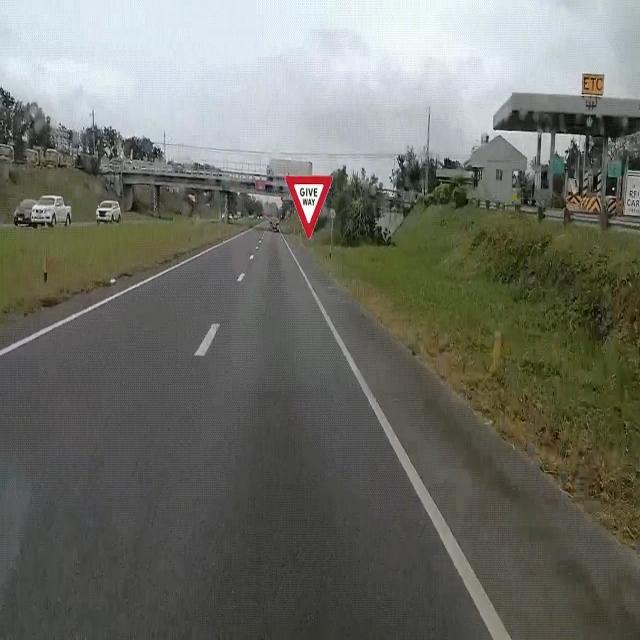Ceder-le-Passage: (282, 165, 336, 255)
